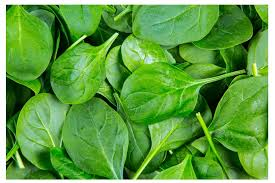spinach: (63, 96, 131, 173), (121, 63, 203, 119), (214, 69, 261, 161), (124, 6, 221, 44), (51, 40, 107, 101), (7, 11, 60, 75), (14, 93, 64, 156)
